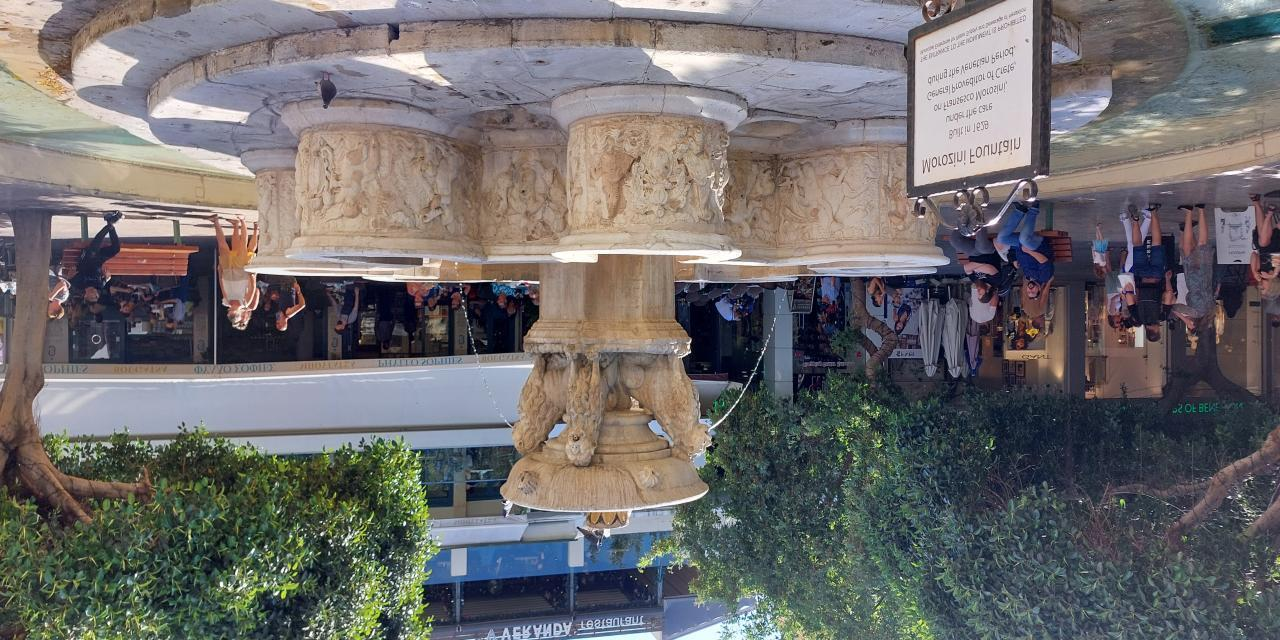Liontaria: (252, 90, 947, 520)
